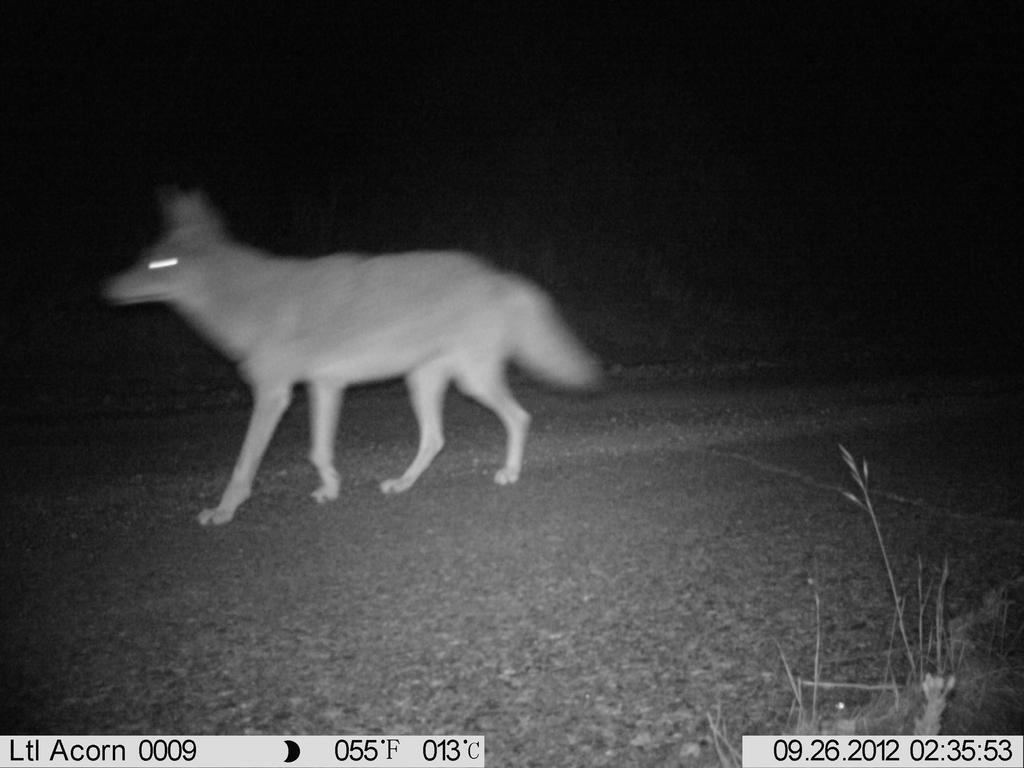coyote: (62, 162, 607, 580)
